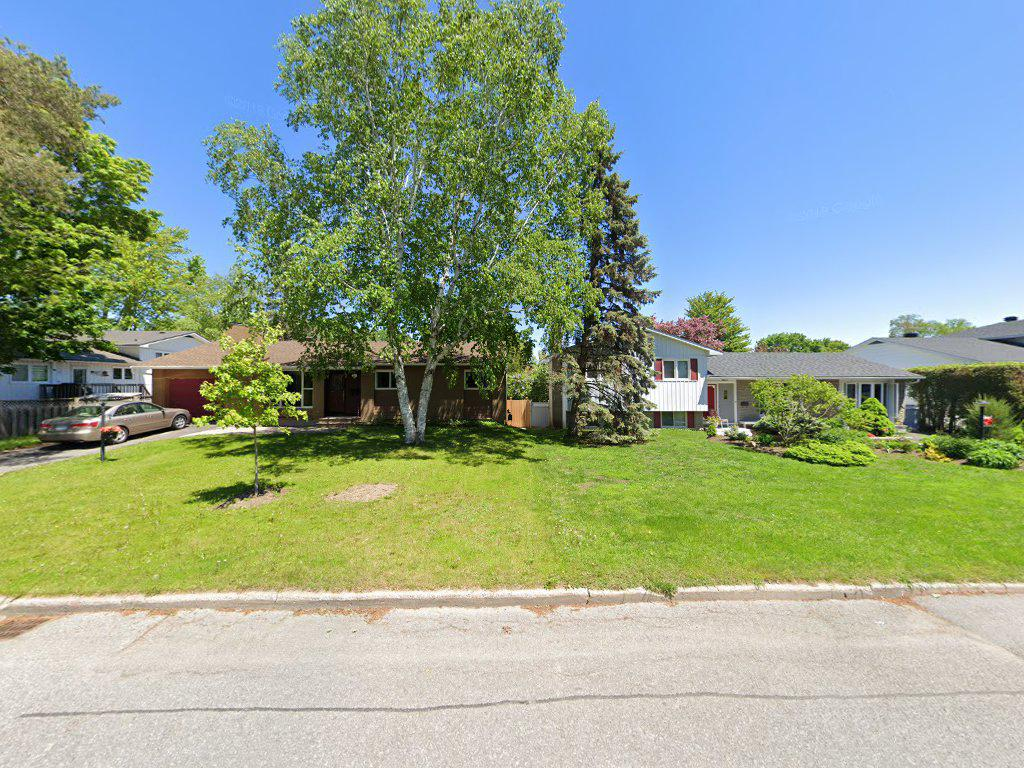trunk: (387, 330, 440, 456)
